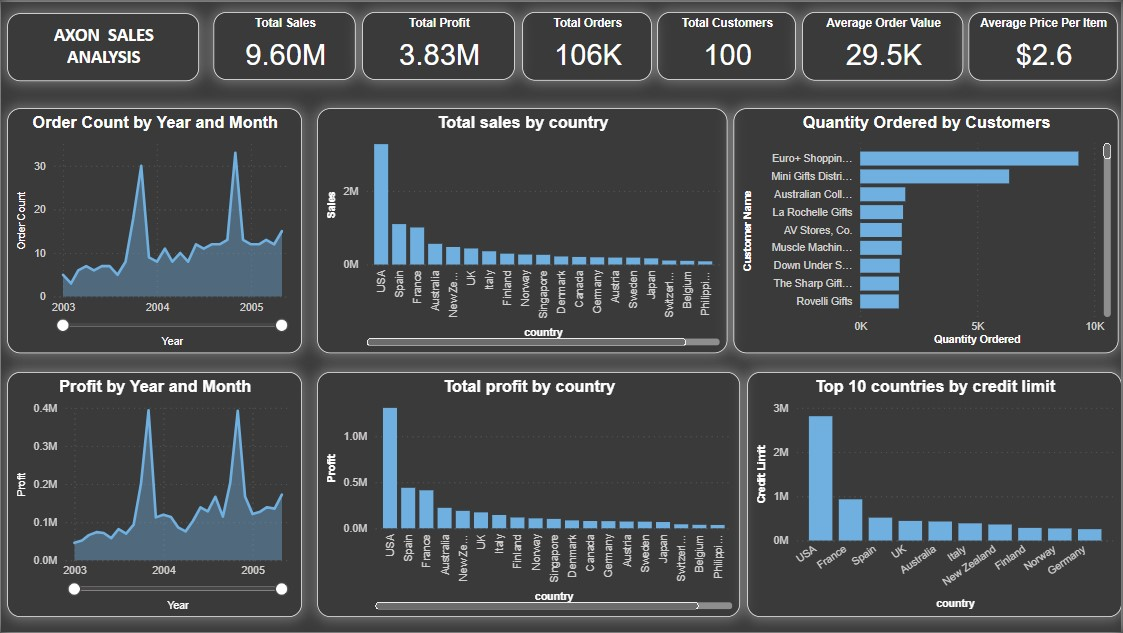

The page's visual inventory and layout, read from the dashboard file:
{"tool":"powerbi","page":{"name":"Sales Dashboard","canvas":[1280,720],"ordinal":0},"visuals":[{"type":"card","title":"Total Customers","fields":{"Values":["PBIElements.Total customers"]},"box":[750,11.7,158.5,77.7],"z":0},{"type":"card","title":"Total Orders","fields":{"Values":["PBIElements.Total Orders"]},"box":[595.7,11.7,147.9,78.7],"z":1000},{"type":"card","title":"Total Sales","fields":{"Values":["PBIElements.Total sales"]},"box":[242.6,11.7,162.8,77.7],"z":2000},{"type":"card","title":"Total Profit","fields":{"Values":["PBIElements.Profit"]},"box":[412.8,11.7,174.5,77.7],"z":3000},{"type":"card","title":"Average Order Value","fields":{"Values":["PBIElements.AverageOrderValue"]},"box":[916,11.7,184,78.7],"z":4000},{"type":"card","title":"Average Price Per Item","fields":{"Values":["PBIElements.AveragePricePerItem"]},"box":[1106.4,11.7,170.2,78.7],"z":5000},{"type":"lineChart","fields":{"Y":["PBIElements.Order Count"],"Category":["classicmodels orders.orderDate.Variation.Date Hierarchy.Year","classicmodels orders.orderDate.Variation.Date Hierarchy.Month"]},"box":[7.8,121.1,336.7,280],"z":6000},{"type":"clusteredBarChart","title":"Quantity Ordered by Customers","fields":{"Y":["Sum(classicmodels orderdetails.quantityOrdered)"],"Category":["classicmodels customers.customerName"]},"box":[836.7,121.1,440,280],"z":7000},{"type":"lineChart","fields":{"Y":["PBIElements.Profit"],"Category":["classicmodels orders.orderDate.Variation.Date Hierarchy.Year","classicmodels orders.orderDate.Variation.Date Hierarchy.Month"]},"box":[7.8,423.3,336.7,280],"z":8000},{"type":"clusteredColumnChart","title":"Total sales by country","fields":{"Category":["classicmodels customers.country"],"Y":["PBIElements.Total sales"]},"box":[361.1,121.1,468.9,280],"z":9000},{"type":"clusteredColumnChart","title":"Top 10 countries by credit limit","fields":{"Y":["Sum(classicmodels customers.creditLimit)"],"Category":["classicmodels customers.country"]},"box":[852.2,423.3,427.8,280],"z":10000},{"type":"clusteredColumnChart","title":"Total profit by country","fields":{"Category":["classicmodels customers.country"],"Y":["PBIElements.Profit"]},"box":[361.1,423.3,483.3,280],"z":11000},{"type":"textbox","box":[7.8,12.2,218.9,77.8],"z":12000}]}

Visuals, with their boxes in screenshot pixels (x1, y1, x2, y2), scaled from the page's 1280x720 canvas onto the 1123x633 screenshot:
"Total Customers" card: 658:10:797:79
"Total Orders" card: 523:10:652:79
"Total Sales" card: 213:10:356:79
"Total Profit" card: 362:10:515:79
"Average Order Value" card: 804:10:965:79
"Average Price Per Item" card: 971:10:1120:79
lineChart - PBIElements.Order Count x classicmodels orders.orderDate.Variation.Date Hierarchy.Year: 7:106:302:353
"Quantity Ordered by Customers" clusteredBarChart: 734:106:1120:353
lineChart - PBIElements.Profit x classicmodels orders.orderDate.Variation.Date Hierarchy.Year: 7:372:302:618
"Total sales by country" clusteredColumnChart: 317:106:728:353
"Top 10 countries by credit limit" clusteredColumnChart: 748:372:1122:618
"Total profit by country" clusteredColumnChart: 317:372:741:618
textbox: 7:11:199:79
